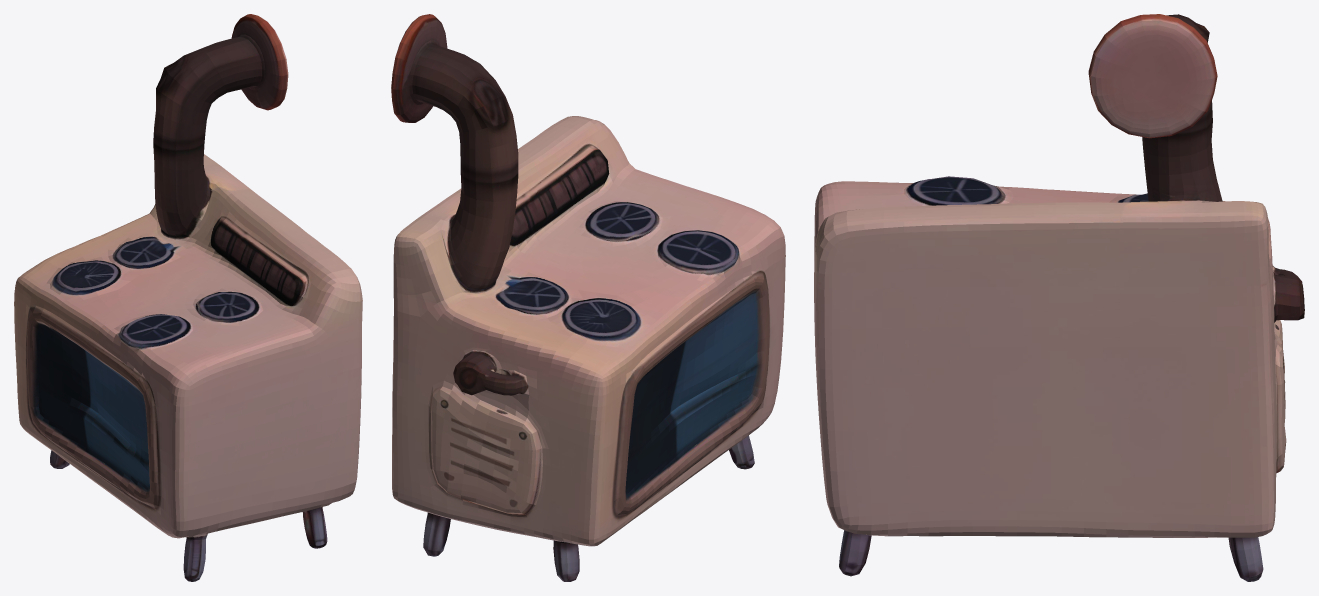
Rendered from horno.obj.
3 views of the same model, side by side, from view 1: azimuth 30°, elevation 25°; view 2: azimuth 150°, elevation 25°; view 3: azimuth 270°, elevation 25° (orthographic). The views are drawn at different scales.
Parts seen in each view (by area): view 1: horno:Mesh; view 2: horno:Mesh; view 3: horno:Mesh.
Boxes of the visible parts, <box> form: horno:Mesh: <box>14,14,362,581</box>; horno:Mesh: <box>391,14,785,581</box>; horno:Mesh: <box>814,14,1304,581</box>.
Bounding box in the file's own units: 1.98 × 3.79 × 2.82.
1 material, 1 textured.
